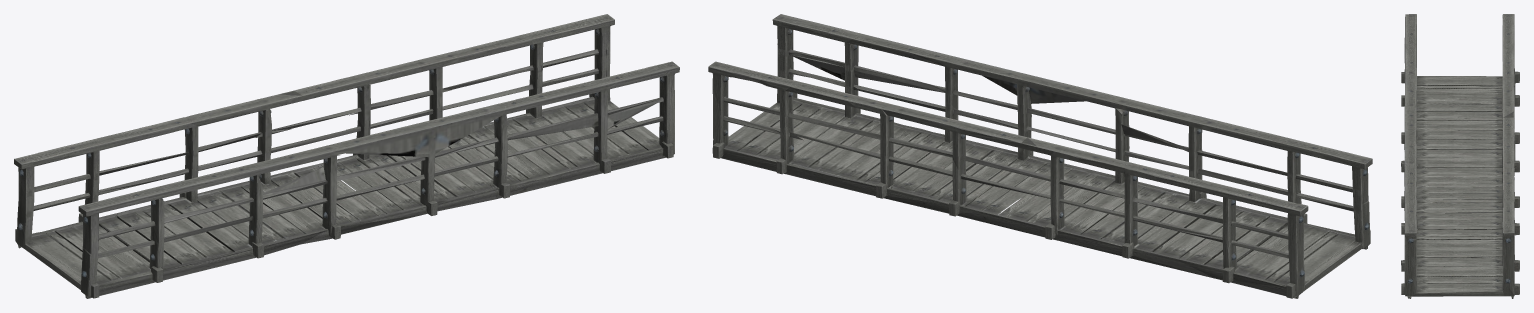
The model's file is web.glb.
3 renders of one model, left to right at view 1: azimuth 30°, elevation 25°; view 2: azimuth 150°, elevation 25°; view 3: azimuth 270°, elevation 25°, orthographic. The views are drawn at different scales.
Visible parts, largest first — view 1: output_unwrapped; view 2: output_unwrapped; view 3: output_unwrapped.
Boxes of the visible parts, x1,y1,x2,y2 form: output_unwrapped: [14, 14, 679, 298]; output_unwrapped: [708, 14, 1372, 298]; output_unwrapped: [1401, 14, 1519, 298].
Size of the model in its own units: 1.9 by 0.2755 by 0.4361.
1 material, 1 textured.
